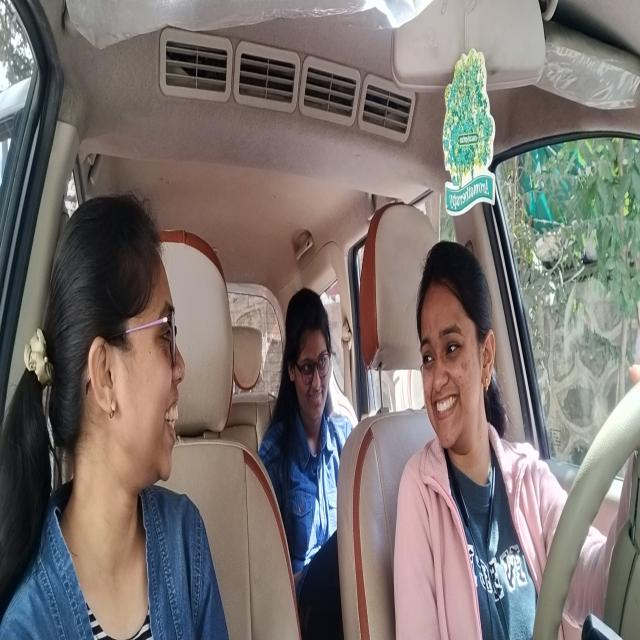LeftRight: (417, 234, 502, 457)
talking: (56, 200, 188, 491), (428, 392, 461, 419), (163, 401, 180, 443)
